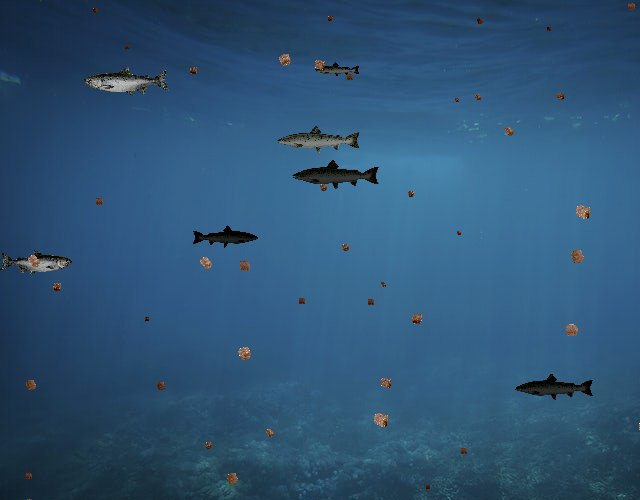Fish: (292, 159, 382, 191), (276, 124, 362, 155), (84, 66, 170, 97), (515, 373, 596, 402), (0, 249, 71, 275), (192, 224, 260, 249), (315, 62, 362, 79)
Pellet: (308, 54, 331, 77), (499, 121, 519, 141), (185, 62, 202, 79), (363, 295, 378, 309), (89, 5, 102, 18), (452, 94, 462, 105)
